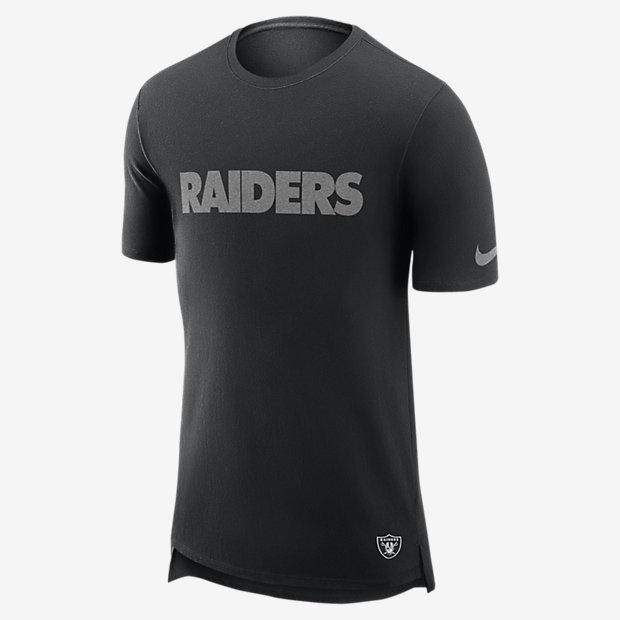teeshirt: (110, 13, 519, 610)
